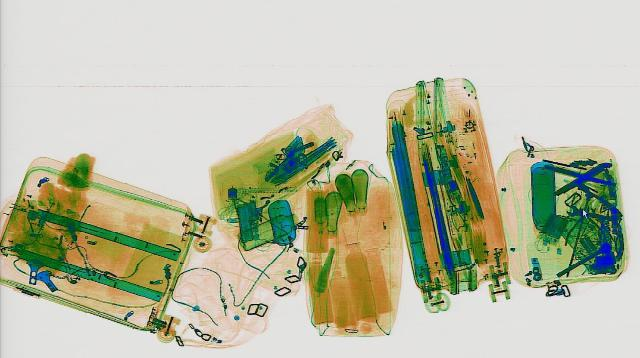Wrench: (564, 203, 614, 220)
